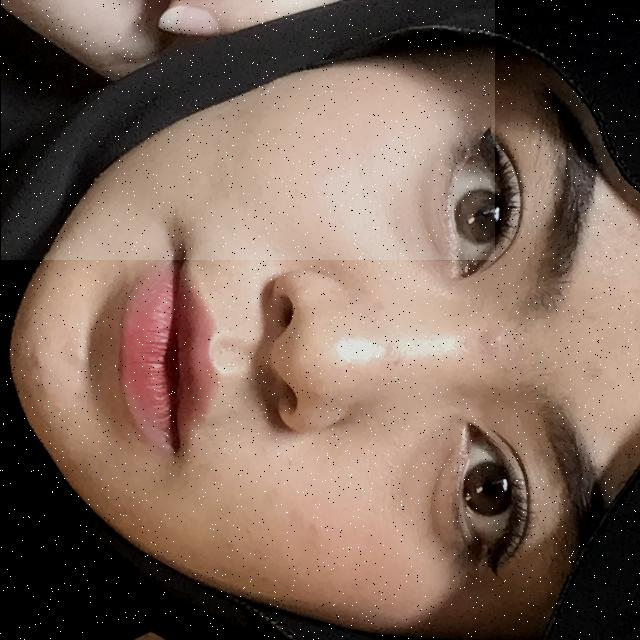ibu: (0, 0, 494, 260)
